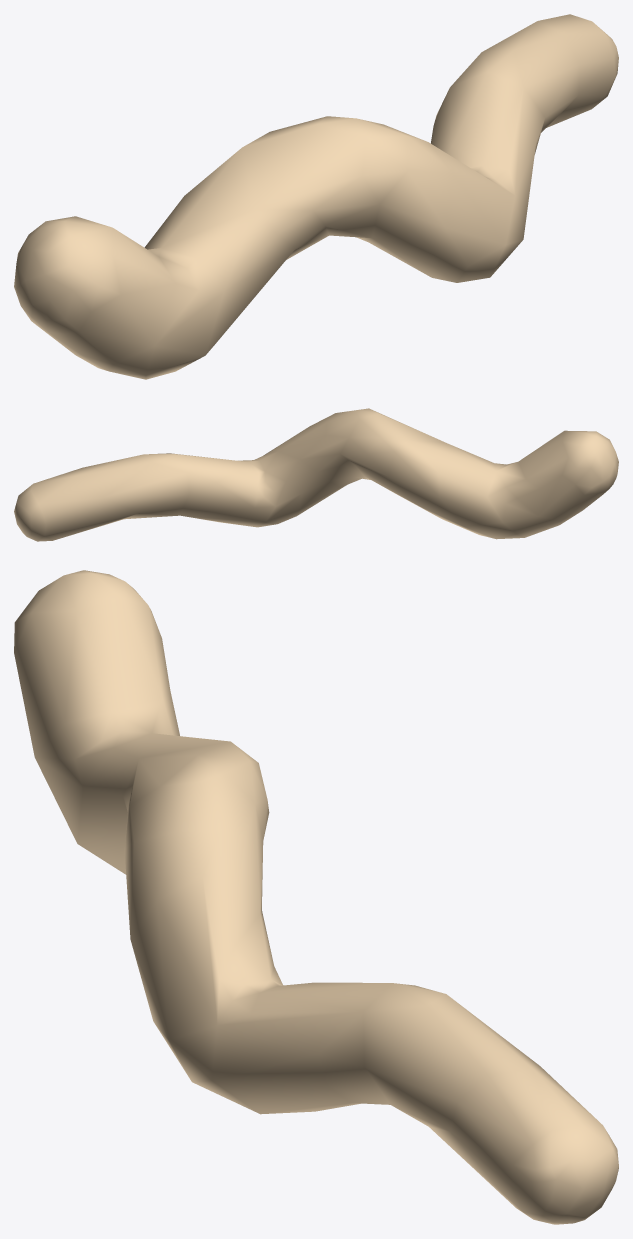
The model's file is apendice.glb.
3 views of the same model, one above another, from view 1: azimuth 30°, elevation 25°; view 2: azimuth 150°, elevation 25°; view 3: azimuth 270°, elevation 25° (orthographic). The views are drawn at different scales.
Visible parts, largest first — view 1: apendice; view 2: apendice; view 3: apendice.
Boxes of the visible parts, box(x1,y1,x2,y2) form: apendice: box(14, 14, 618, 379); apendice: box(14, 408, 618, 541); apendice: box(14, 570, 618, 1224).
Size of the model in its own units: 0.0696 by 0.0181 by 0.039.
